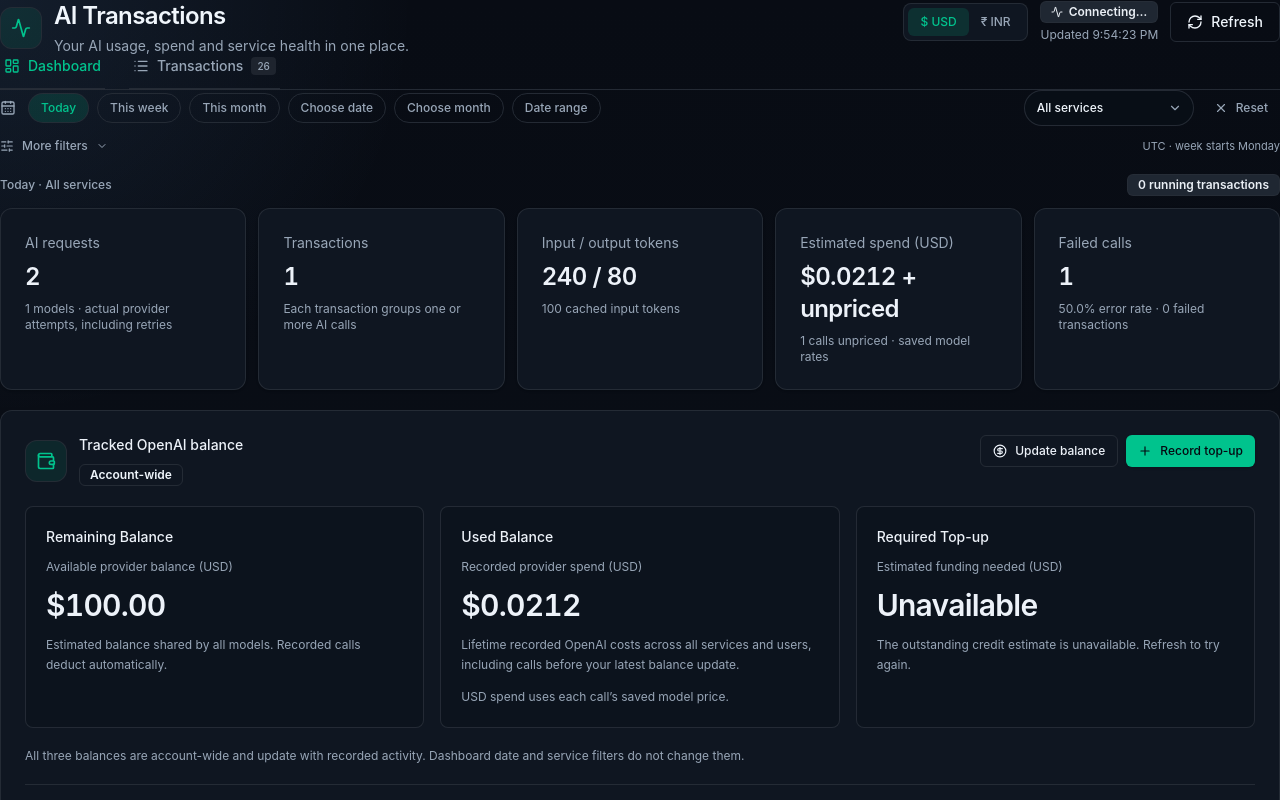
AI monitoring views › refreshes after authorized WebSocket updates and reports reconnecting on disconnect
expect the text "$100.00" is shown: met, box x1=46 y1=587 x2=165 y2=623
Step 1. Click the tab "Transactions 26" → (204, 73), box x1=129 y1=56 x2=280 y2=90
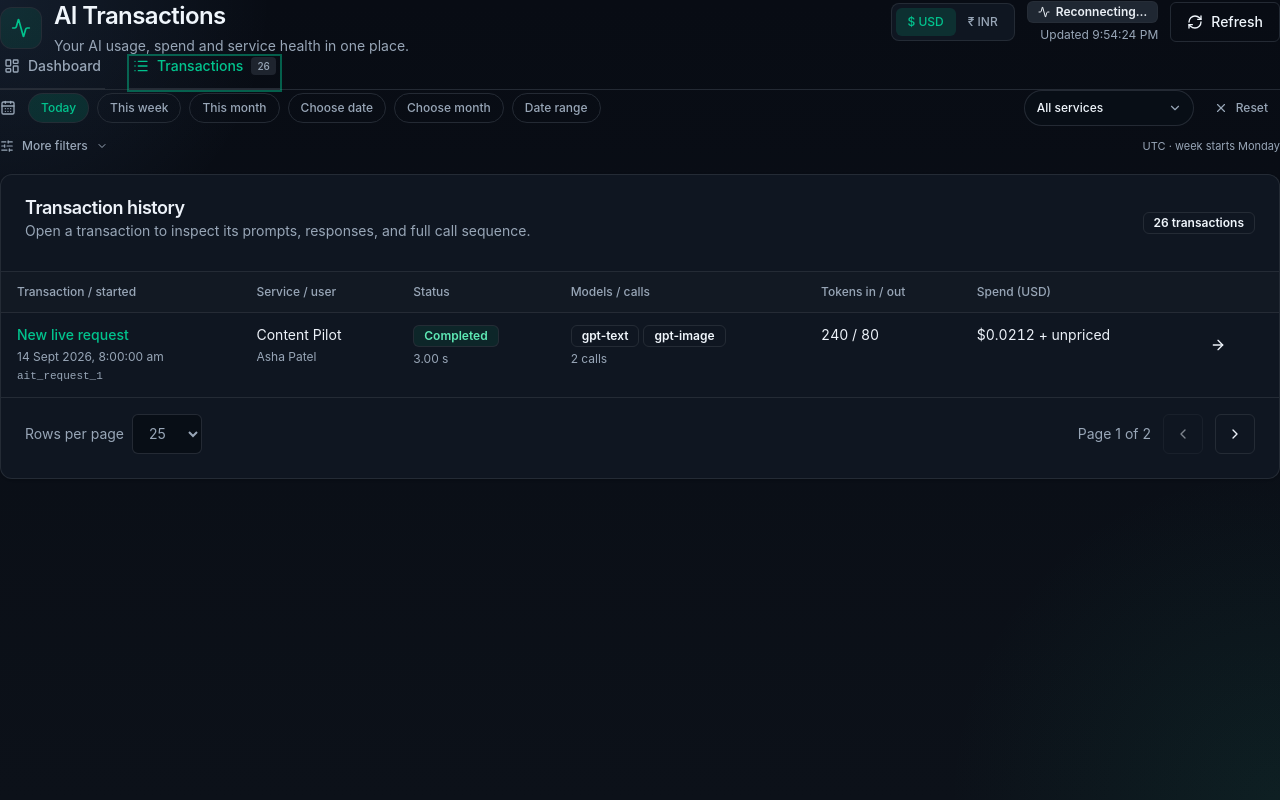
expect the link "New live request" is shown: met, box x1=17 y1=325 x2=129 y2=345
expect the text "Reconnecting…" is shown: met, box x1=1027 y1=1 x2=1158 y2=23
